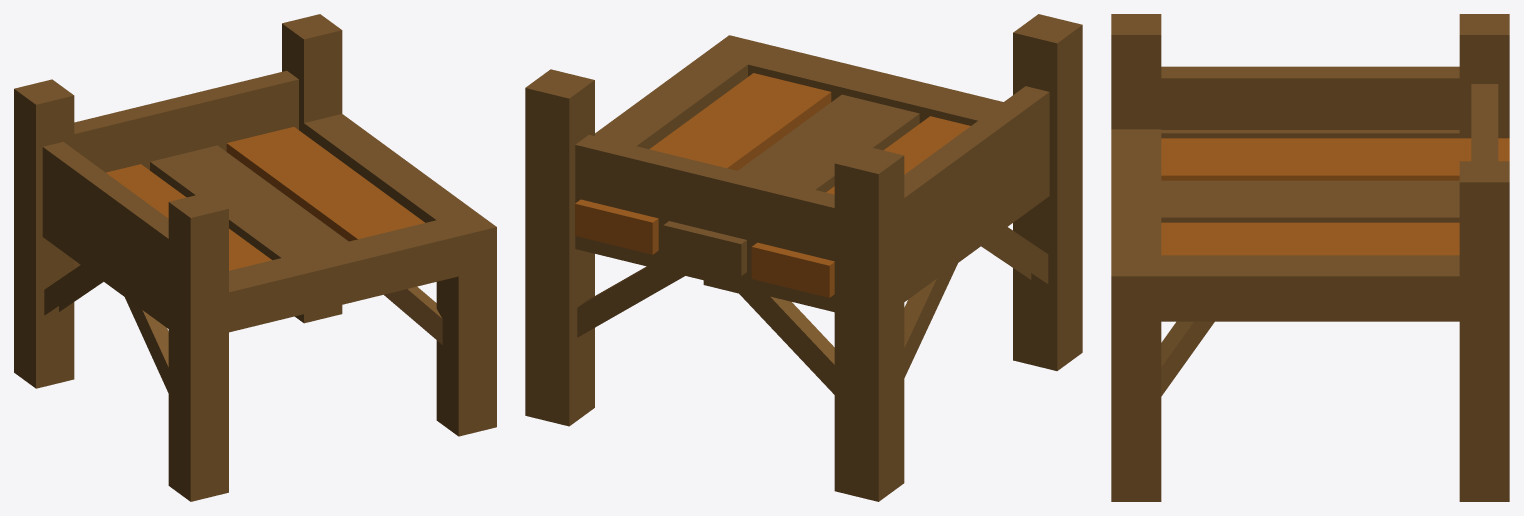
The model's file is ElbowFilled.fbx.
3 views of the same model, side by side, from view 1: azimuth 30°, elevation 25°; view 2: azimuth 150°, elevation 25°; view 3: azimuth 270°, elevation 25° (orthographic). The views are drawn at different scales.
Parts seen in each view (by area): view 1: Bridge - Elbow Filled; view 2: Bridge - Elbow Filled; view 3: Bridge - Elbow Filled.
Part boxes in pixels (x1,y1,x2,y2): Bridge - Elbow Filled: [14, 14, 496, 501]; Bridge - Elbow Filled: [525, 14, 1082, 501]; Bridge - Elbow Filled: [1111, 14, 1509, 501].
Bounding box in the file's own units: 80 × 70.89 × 80.
